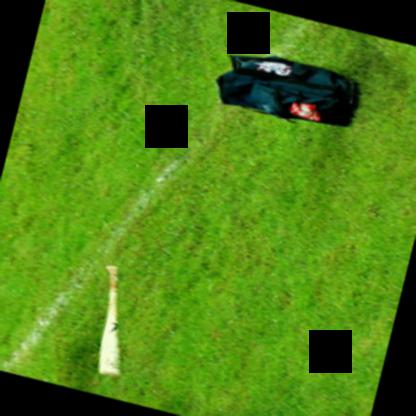backpack: (215, 53, 357, 128)
handbag: (218, 53, 359, 126)
